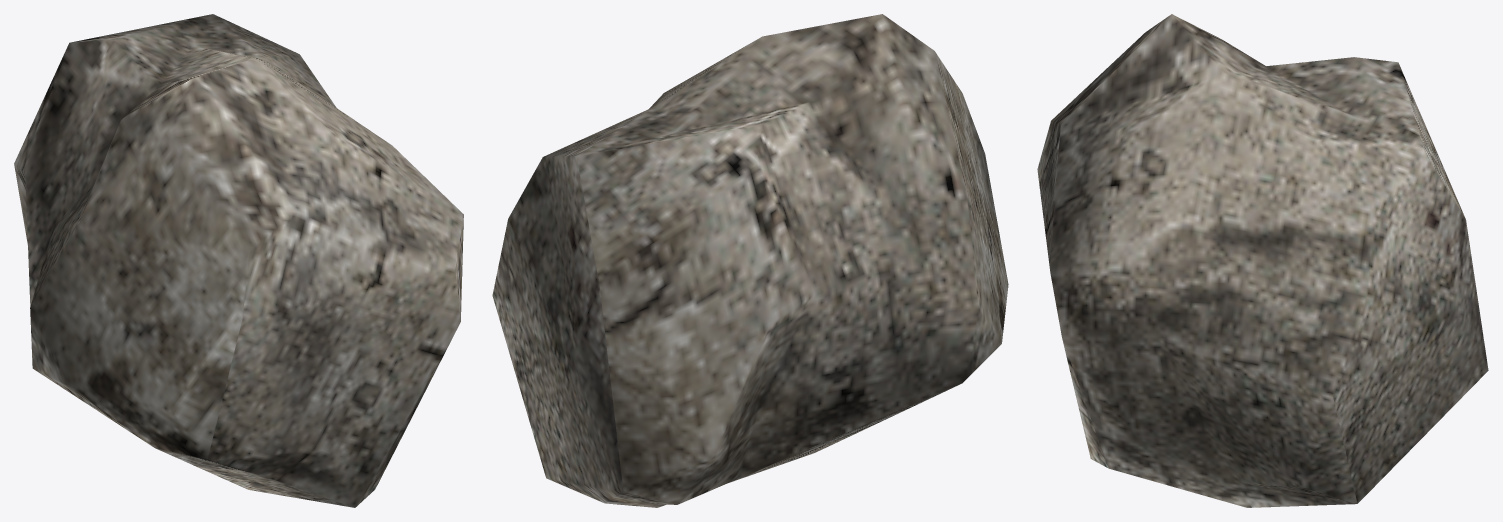
File: Debris1_6.fbx
The picture shows the model from 3 angles, left to right: view 1: azimuth 30°, elevation 25°; view 2: azimuth 150°, elevation 25°; view 3: azimuth 270°, elevation 25°; orthographic projection. The views are drawn at different scales.
Parts seen in each view (by area): view 1: polySurface23; view 2: polySurface23; view 3: polySurface23.
Part boxes in pixels (x1,y1,x2,y2): polySurface23: (14,14,463,507); polySurface23: (492,14,1008,507); polySurface23: (1037,14,1488,507).
Bounding box in the file's own units: 1.29 × 1.37 × 1.32.
